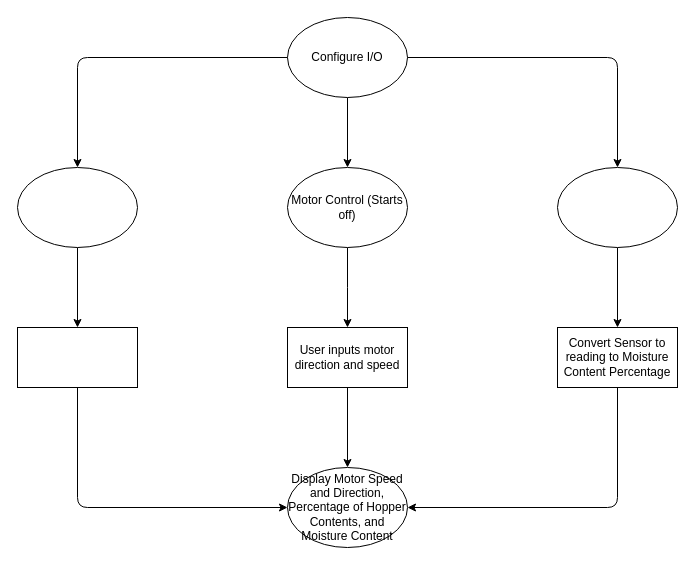
The diagram is 695 pixels wide and 565 high, and some of its shapes have lost their labels. The centre of each missing label's shape, as x and y in pixels:
"Correspond Background Color to the same color as LEDs" belongs at pixel 77 357.
"IR Sensor (All IR Diagram here)" belongs at pixel 77 207.
"Moisture Sensor (All Moisture Sensor Diagram here)" belongs at pixel 617 207.
